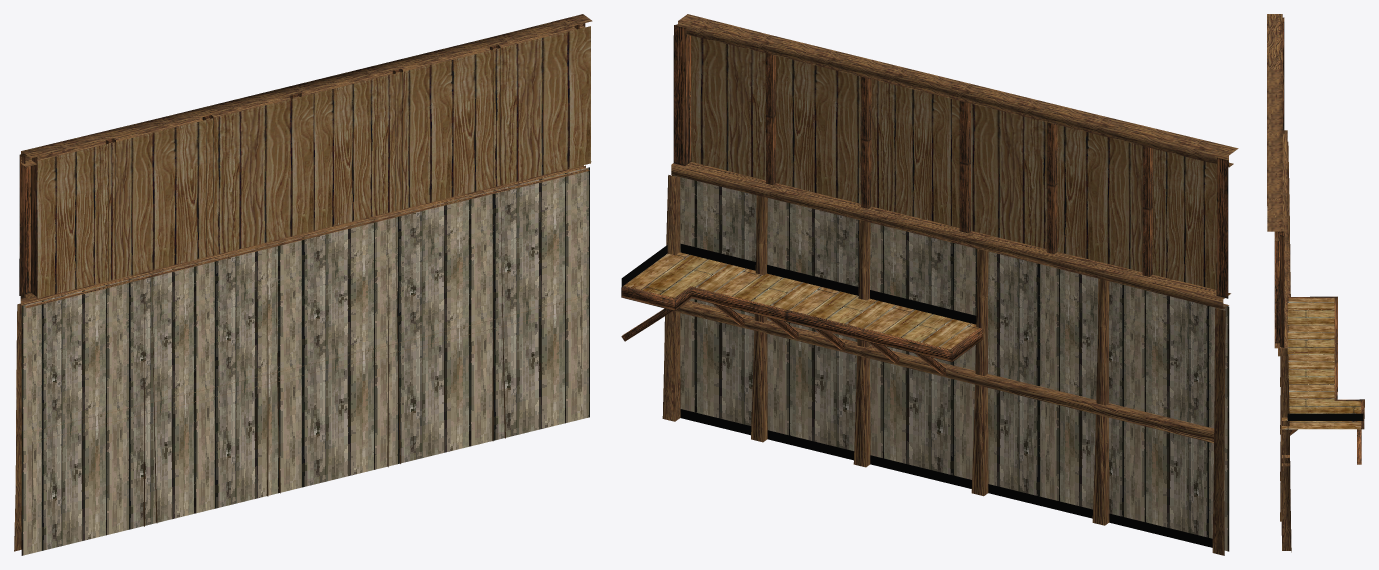
File: LAKETOWN_WAREHOUSE1_PS_WH1_SIDEWALL6645__GX.fbx
3 views of the same model, side by side, from view 1: azimuth 30°, elevation 25°; view 2: azimuth 150°, elevation 25°; view 3: azimuth 270°, elevation 25° (orthographic). The views are drawn at different scales.
Visible parts, largest first — view 1: LAKETOWN_WAREHOUSE1_PS_WH1_SIDEWALL6645__GX; view 2: LAKETOWN_WAREHOUSE1_PS_WH1_SIDEWALL6645__GX; view 3: LAKETOWN_WAREHOUSE1_PS_WH1_SIDEWALL6645__GX.
Boxes of the visible parts, <box> form: LAKETOWN_WAREHOUSE1_PS_WH1_SIDEWALL6645__GX: <box>14,14,592,555</box>; LAKETOWN_WAREHOUSE1_PS_WH1_SIDEWALL6645__GX: <box>621,14,1238,555</box>; LAKETOWN_WAREHOUSE1_PS_WH1_SIDEWALL6645__GX: <box>1267,14,1364,552</box>.
Bounding box in the file's own units: 196867 × 132735 × 36620.
Materials: 6 (6 with a texture image).
